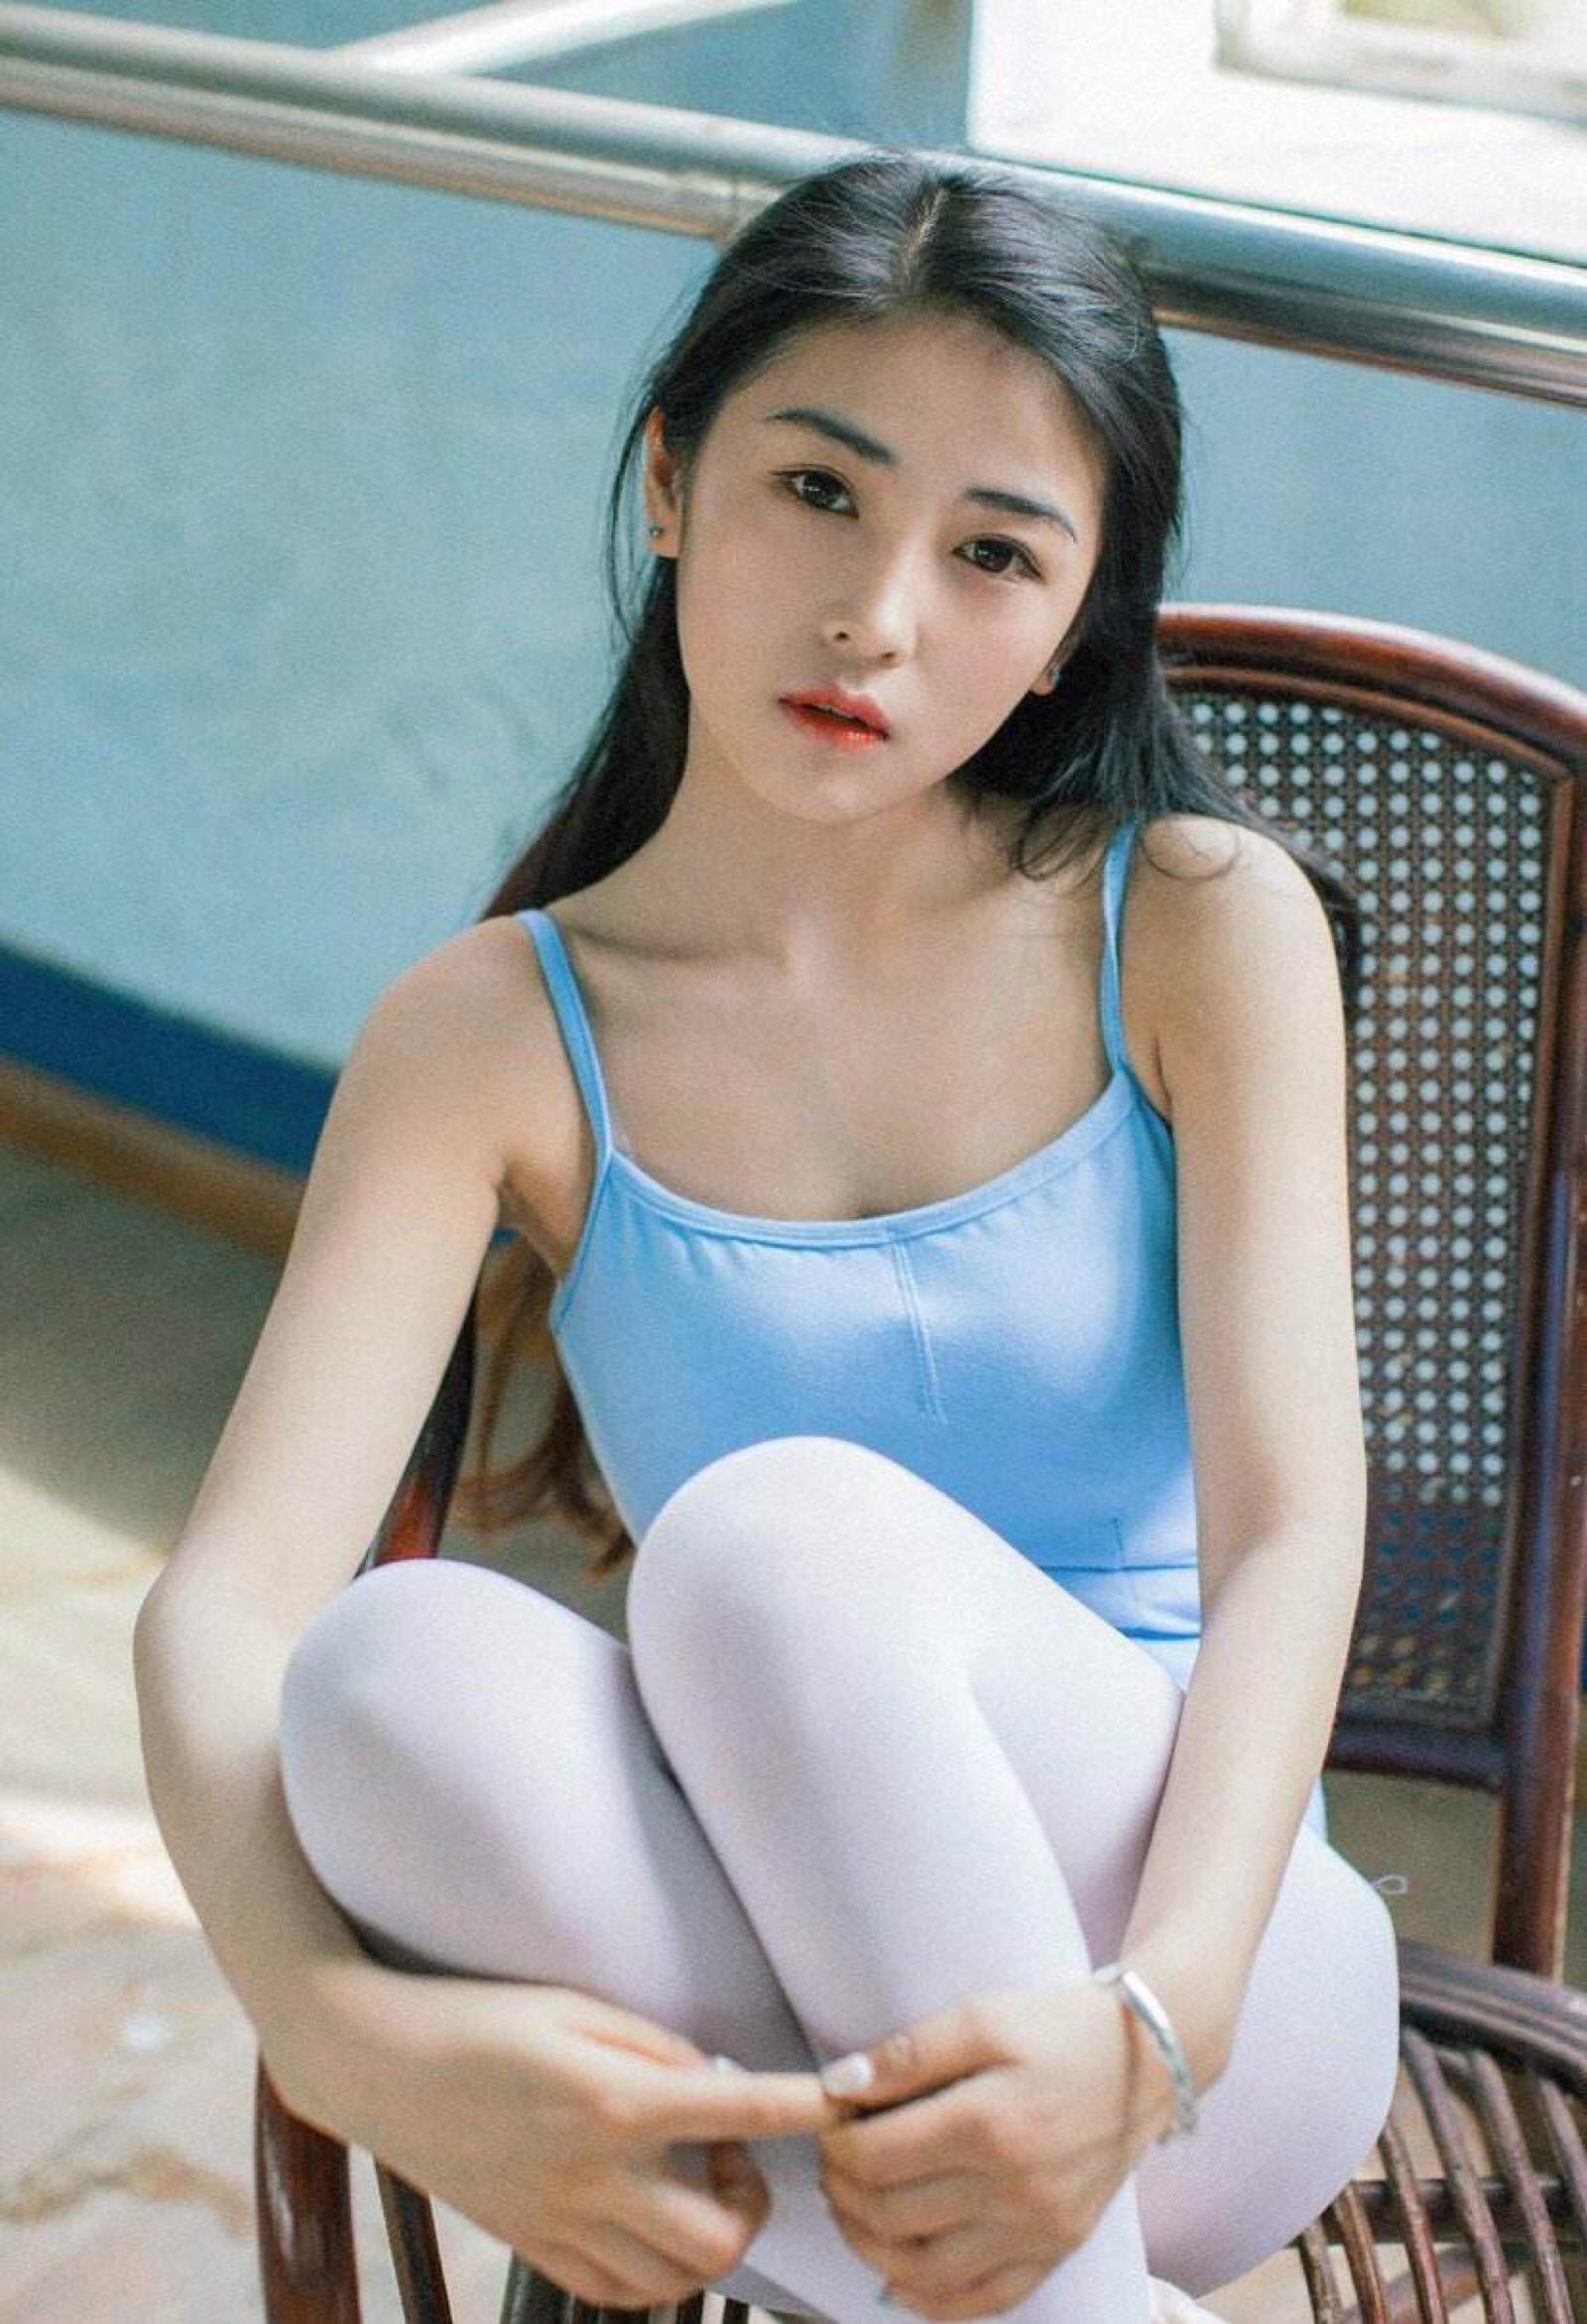person: (376, 143, 1403, 2324)
